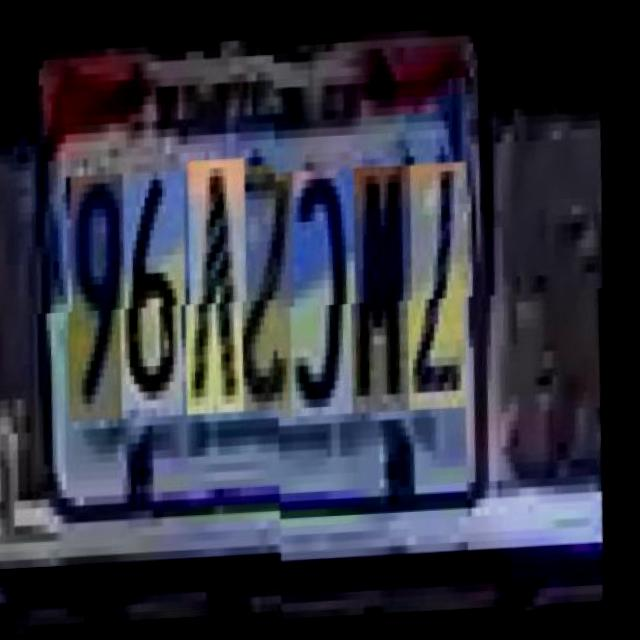2: (229, 166, 312, 415)
6: (65, 173, 142, 422)
7: (403, 158, 487, 407)
9: (116, 171, 203, 420)
c: (286, 162, 373, 412)
v: (181, 159, 263, 417)
w: (347, 160, 430, 409)
